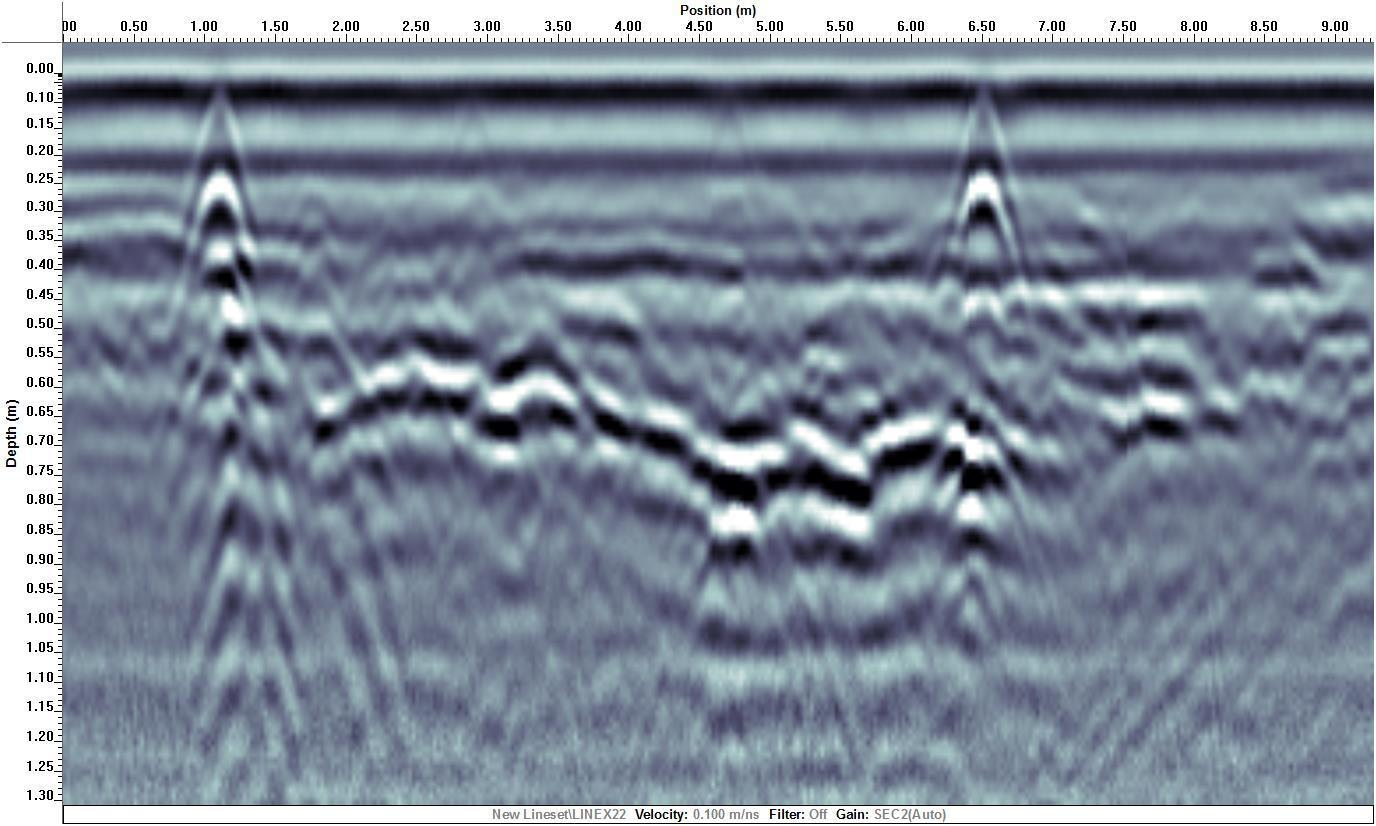hyperbola: (175, 101, 267, 289), (938, 89, 1030, 277)
